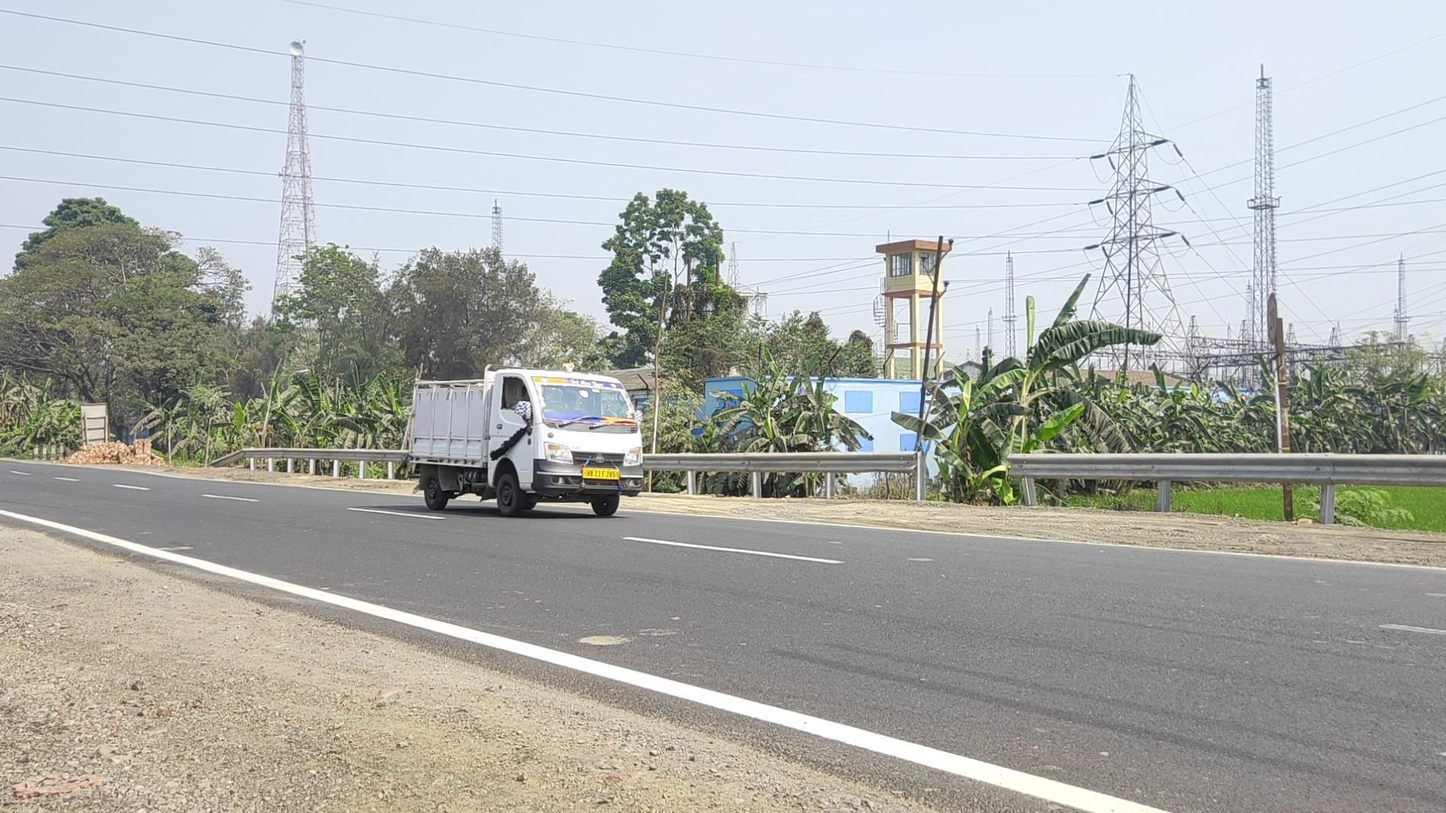van: (407, 364, 643, 517)
